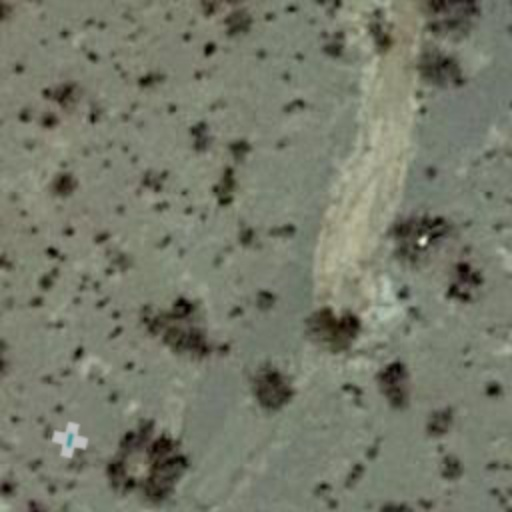cross: (48, 418, 92, 462)
